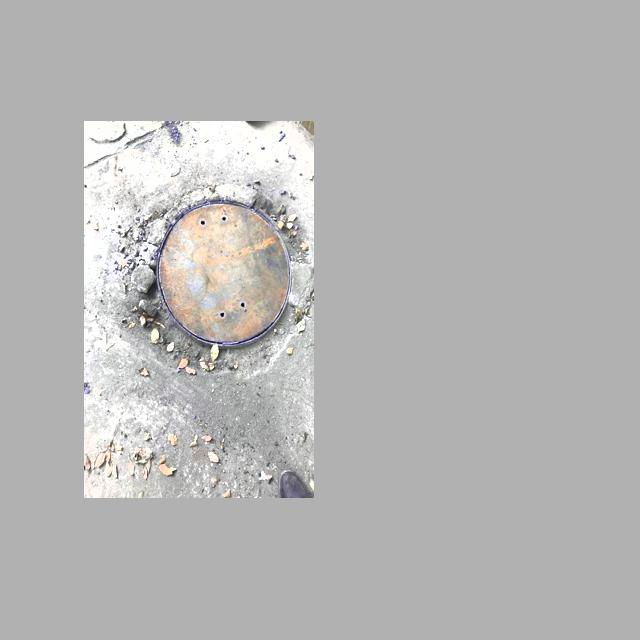circle: (112, 179, 308, 387)
